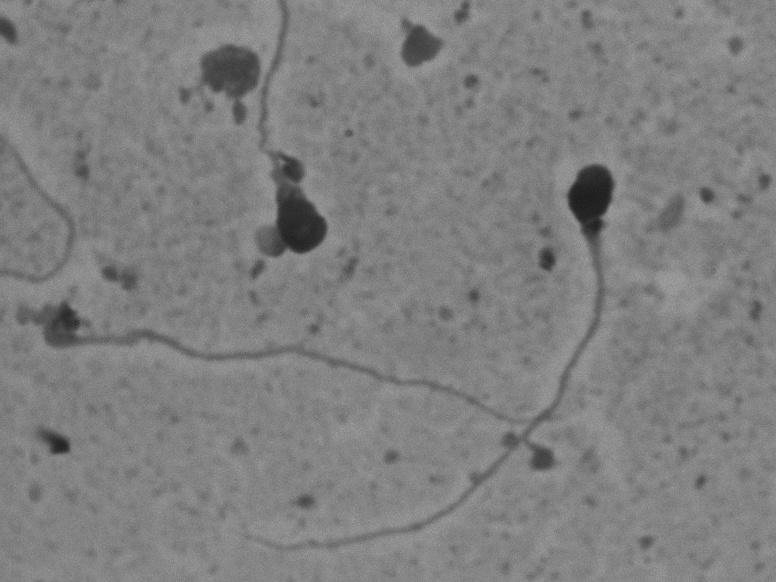Abnormal: (217, 153, 627, 563), (23, 284, 504, 429), (198, 7, 347, 277)
